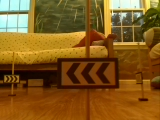left: (58, 59, 119, 87)
right: (3, 75, 19, 84)
